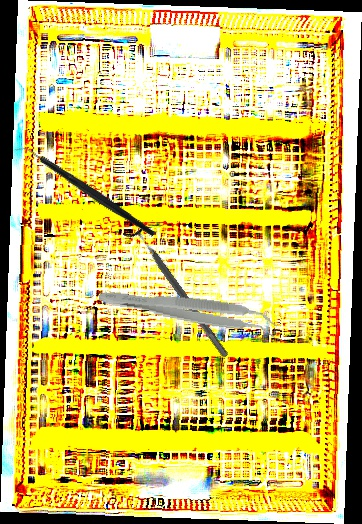Chopper: (11, 110, 158, 274)
Fixation Ring: (121, 219, 237, 364)
Tissue Forceps: (96, 284, 280, 340)
